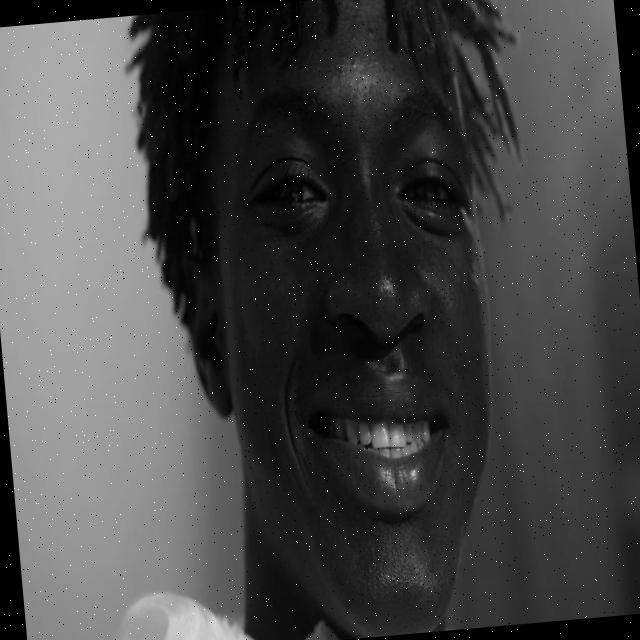Happiness: (198, 24, 517, 640)
